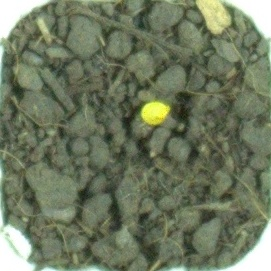chilli seed: (139, 99, 173, 126)
